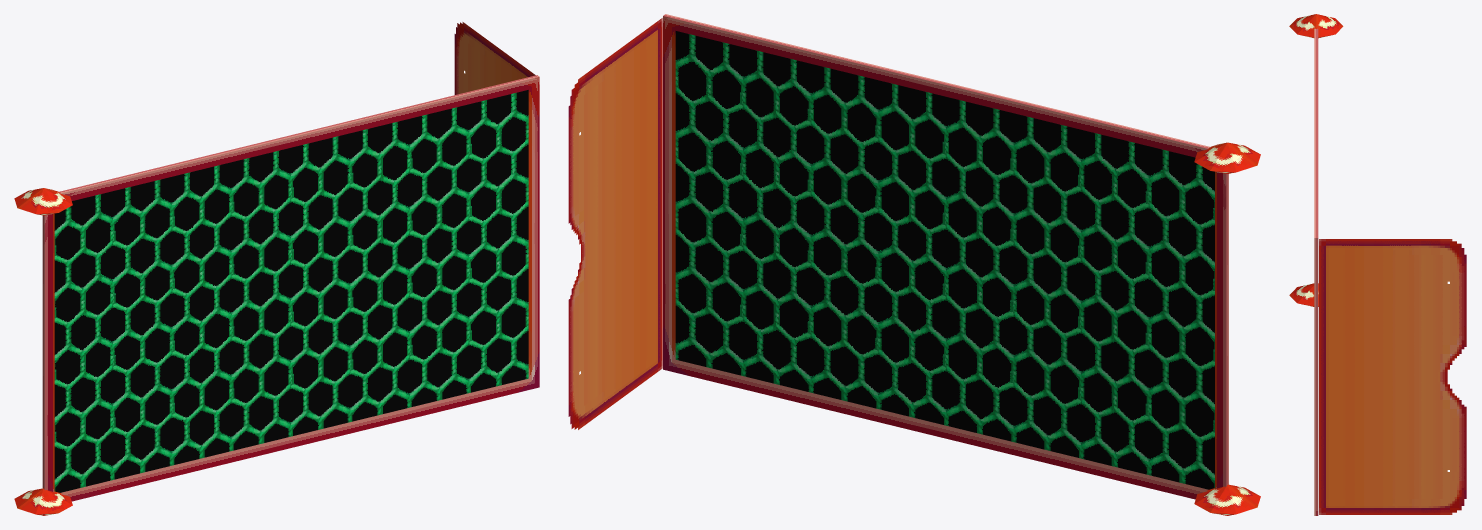
File: fencewaterv.dae
3 views of the same model, side by side, from view 1: azimuth 30°, elevation 25°; view 2: azimuth 150°, elevation 25°; view 3: azimuth 270°, elevation 25° (orthographic). The views are drawn at different scales.
Parts seen in each view (by area): view 1: m1, m0, m2; view 2: m1, m2, m0; view 3: m2, m0.
Boxes of the visible parts, x1=… form: m1: x1=54, y1=90, x2=528, y2=492; m0: x1=14, y1=75, x2=539, y2=515; m2: x1=454, y1=22, x2=535, y2=94; m1: x1=675, y1=31, x2=1214, y2=489; m2: x1=568, y1=18, x2=662, y2=429; m0: x1=663, y1=14, x2=1260, y2=515; m2: x1=1319, y1=239, x2=1466, y2=514; m0: x1=1289, y1=14, x2=1343, y2=515.
Size of the model in its own units: 527 by 317 by 175.
